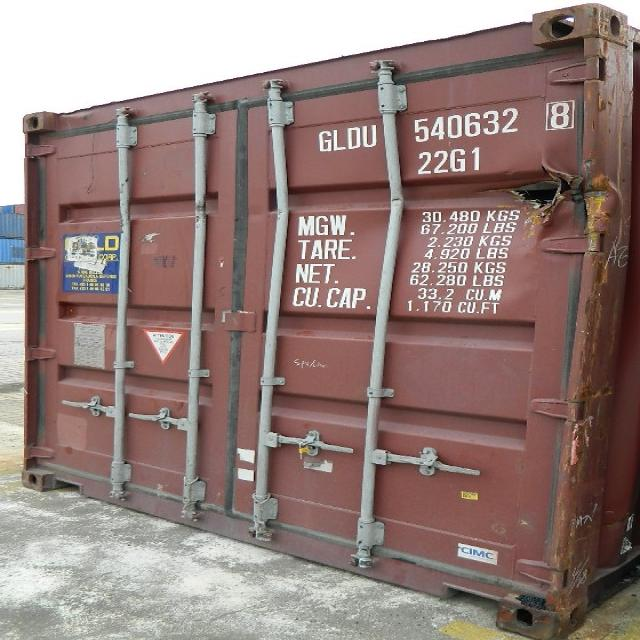dent: (548, 145, 596, 261)
